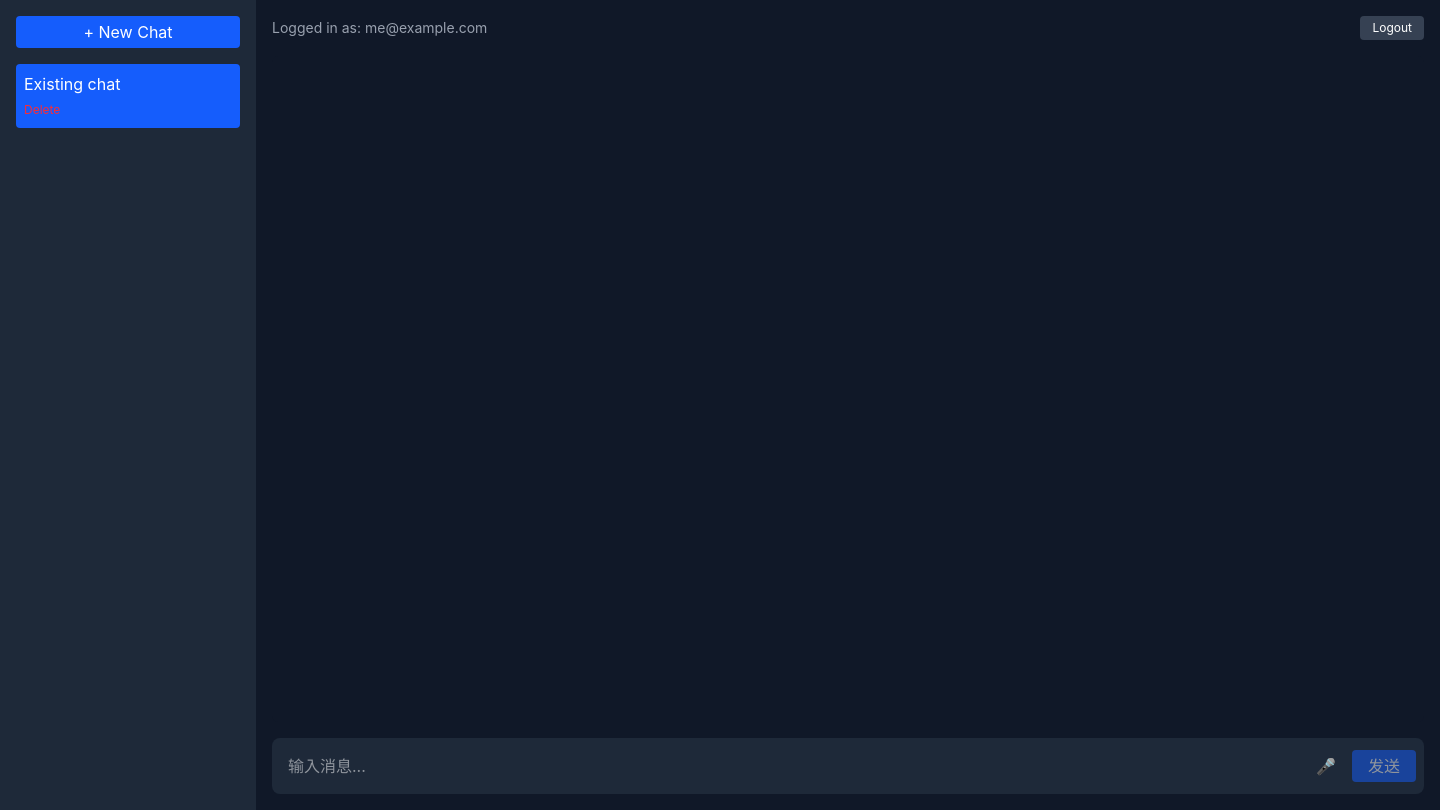
Scenario: Home – sending a message › streams a successful reply, sends the bearer token, and persists both messages
The image size is (1440, 810).
expect the text "Existing chat" is shown: met, box [24, 74, 120, 94]
Type "你好" into the field with placeholder "输入消息..." at (790, 766), box [280, 754, 1300, 778]
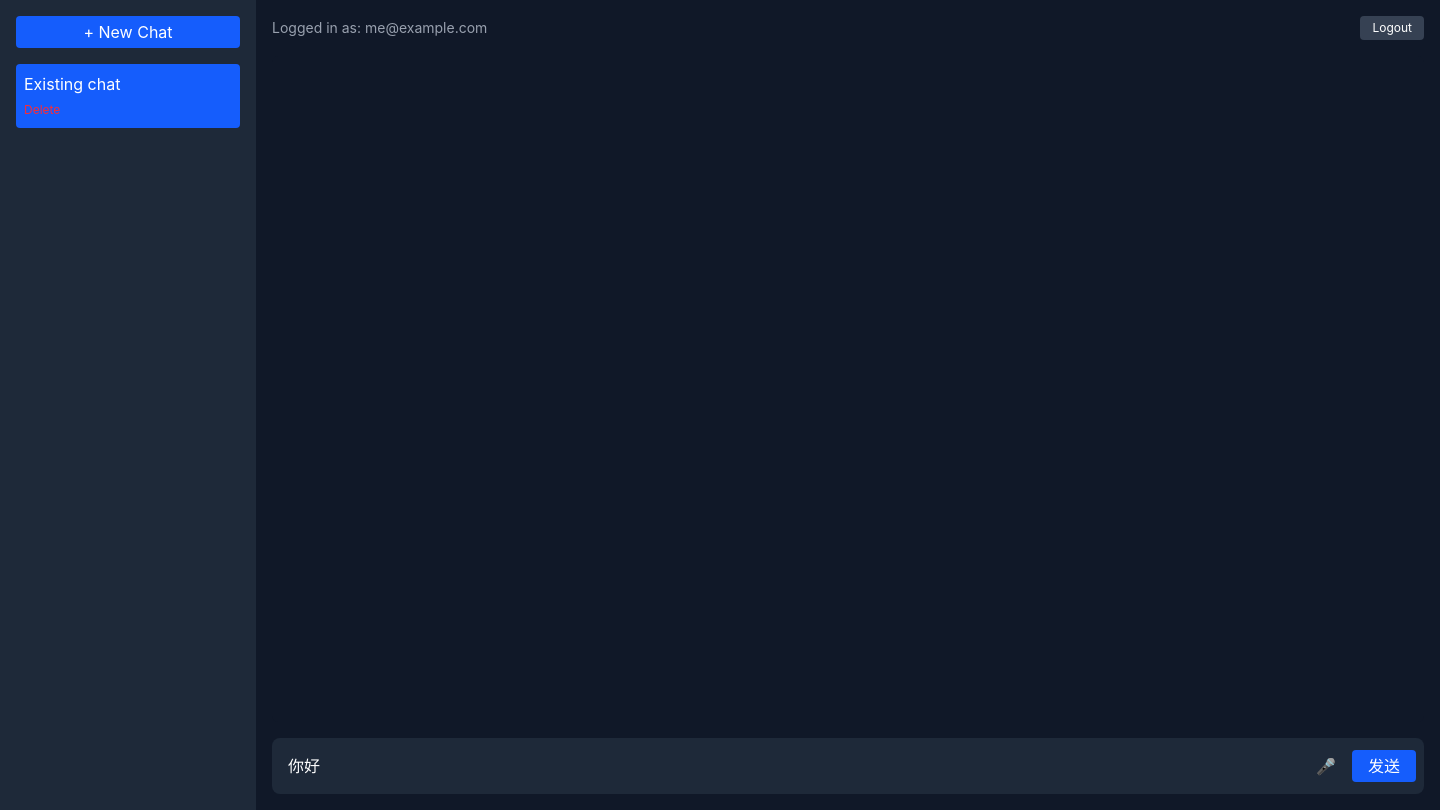
Click the button "发送" at (1384, 766), box [1352, 750, 1416, 782]
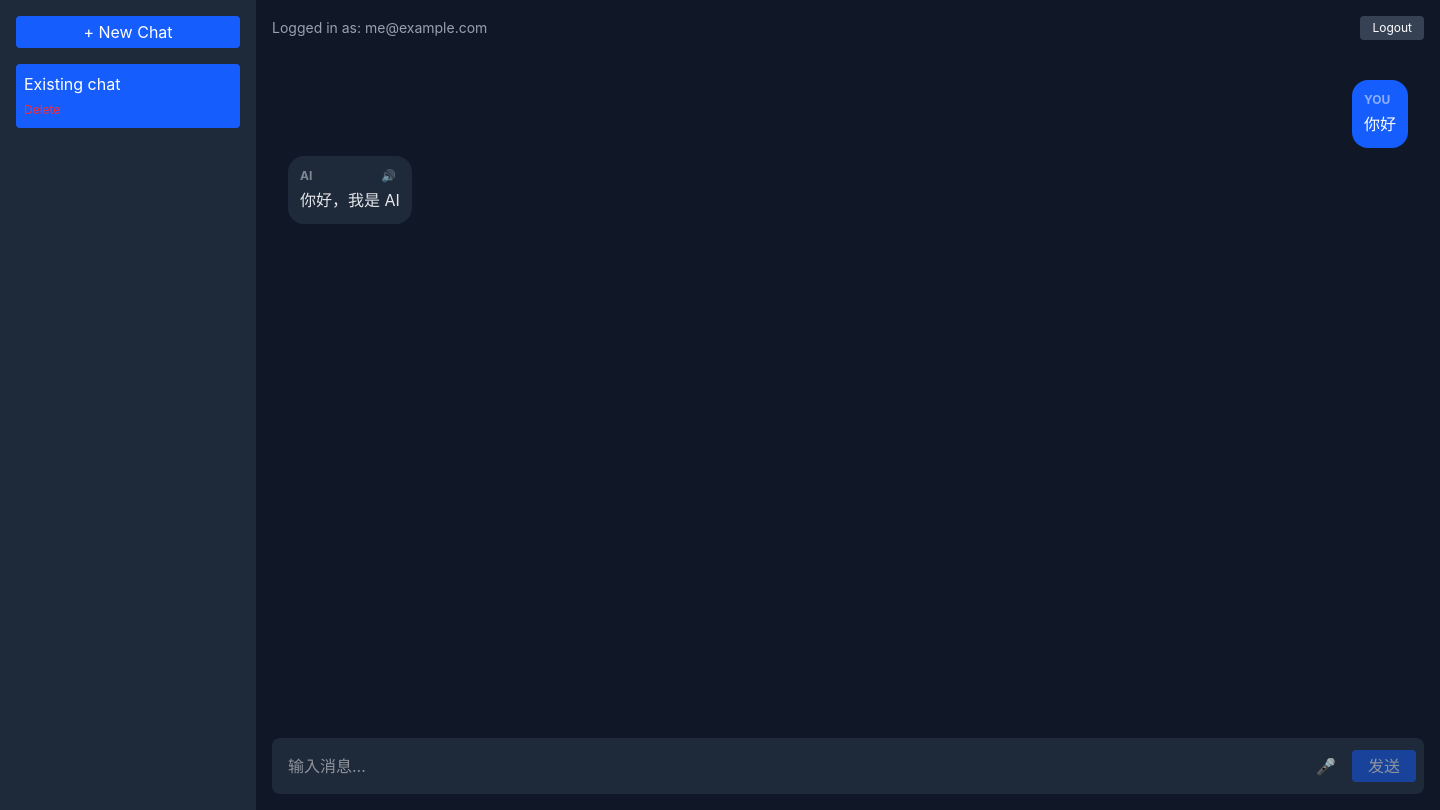
expect the text "你好，我是 AI" is shown: met, box [300, 188, 400, 212]
